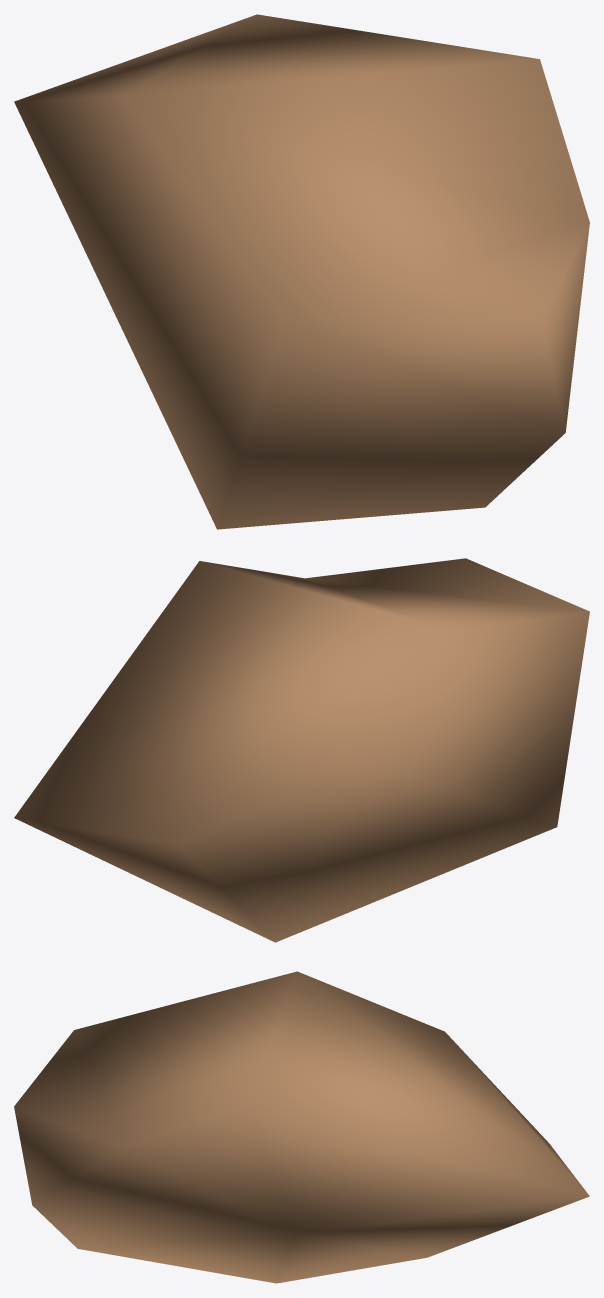
File: MSH_Rock_Single_30.FBX
The picture shows the model from 3 angles, top to bottom: view 1: azimuth 30°, elevation 25°; view 2: azimuth 150°, elevation 25°; view 3: azimuth 270°, elevation 25°; orthographic projection. The views are drawn at different scales.
Visible parts, largest first — view 1: MESH_ROCK_06; view 2: MESH_ROCK_06; view 3: MESH_ROCK_06.
Boxes of the visible parts, x1,y1,x2,y2 form: MESH_ROCK_06: (14, 14, 589, 529); MESH_ROCK_06: (14, 558, 589, 942); MESH_ROCK_06: (14, 971, 589, 1283).
Bounding box in the file's own units: 4.49 × 4.38 × 8.64.
